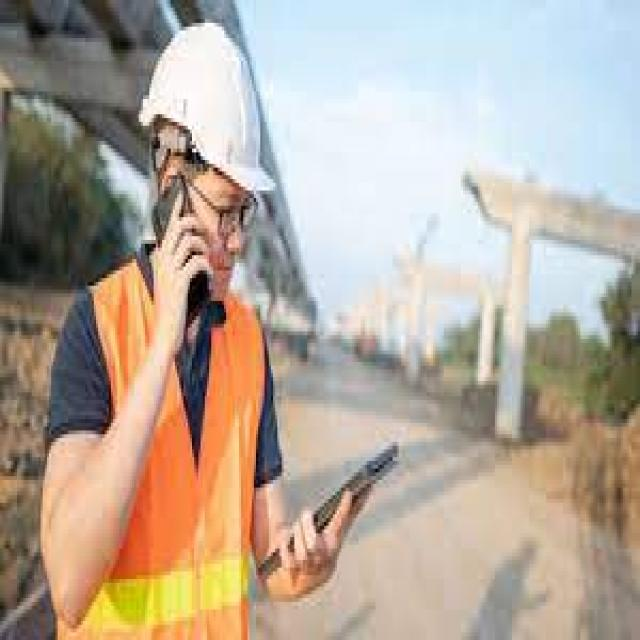Reflective-Jacket: (68, 259, 269, 636)
Safety-Helmet: (136, 15, 280, 210)
